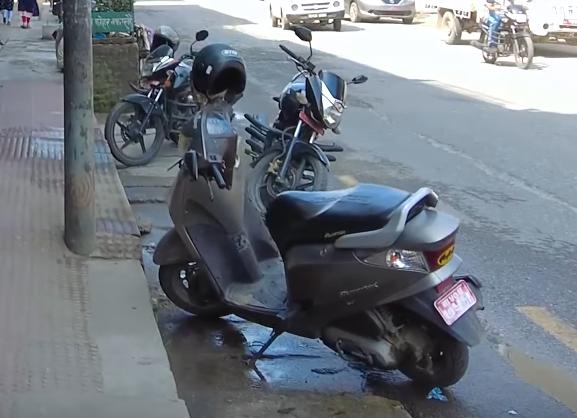bike: (244, 35, 351, 216), (102, 27, 214, 170), (476, 6, 536, 70)
scooter: (151, 76, 499, 391)
